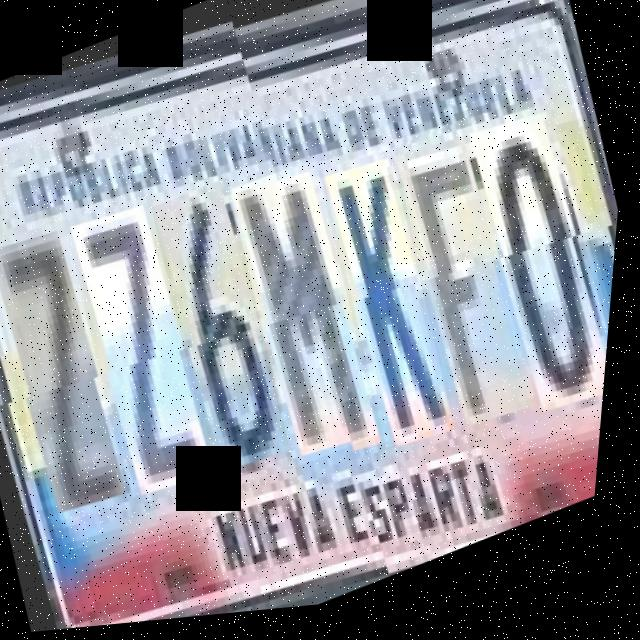6: (137, 175, 319, 498)
F: (378, 120, 560, 443)
K: (307, 145, 479, 463)
M: (215, 157, 406, 482)
O: (449, 99, 631, 430)
Z: (56, 198, 242, 522), (0, 223, 155, 537)
